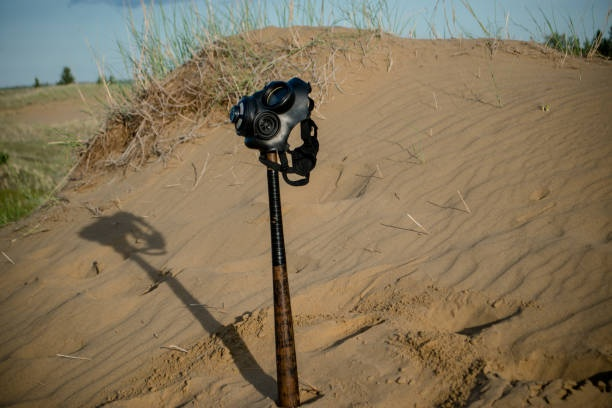bita: (258, 119, 308, 403)
